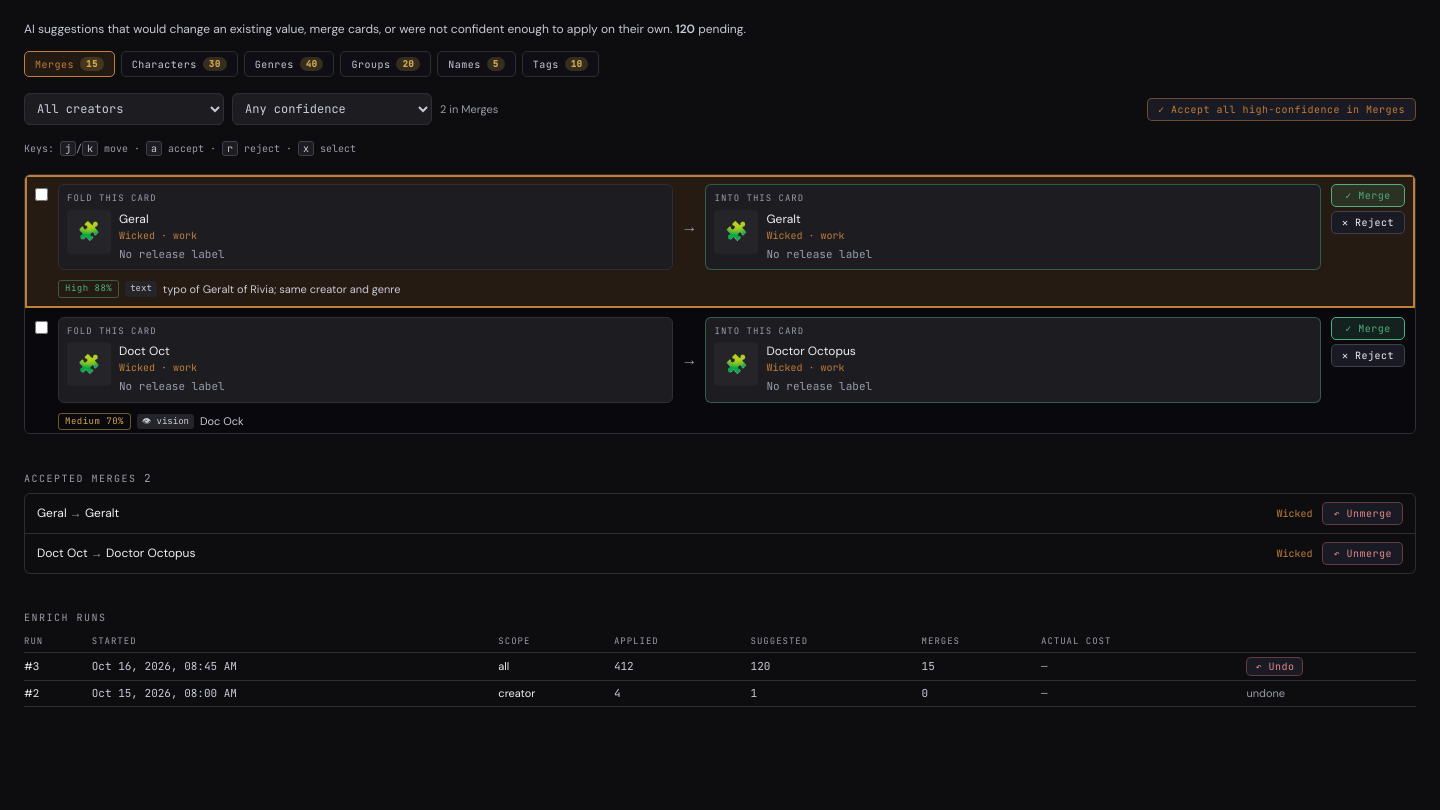
Test: Review tab › pressing a on a merge row asks first; a bulk accept with merges says cards will fold
Press a in the list item with aria-label "Same character: Geral", box 25,175 -> 1415,308
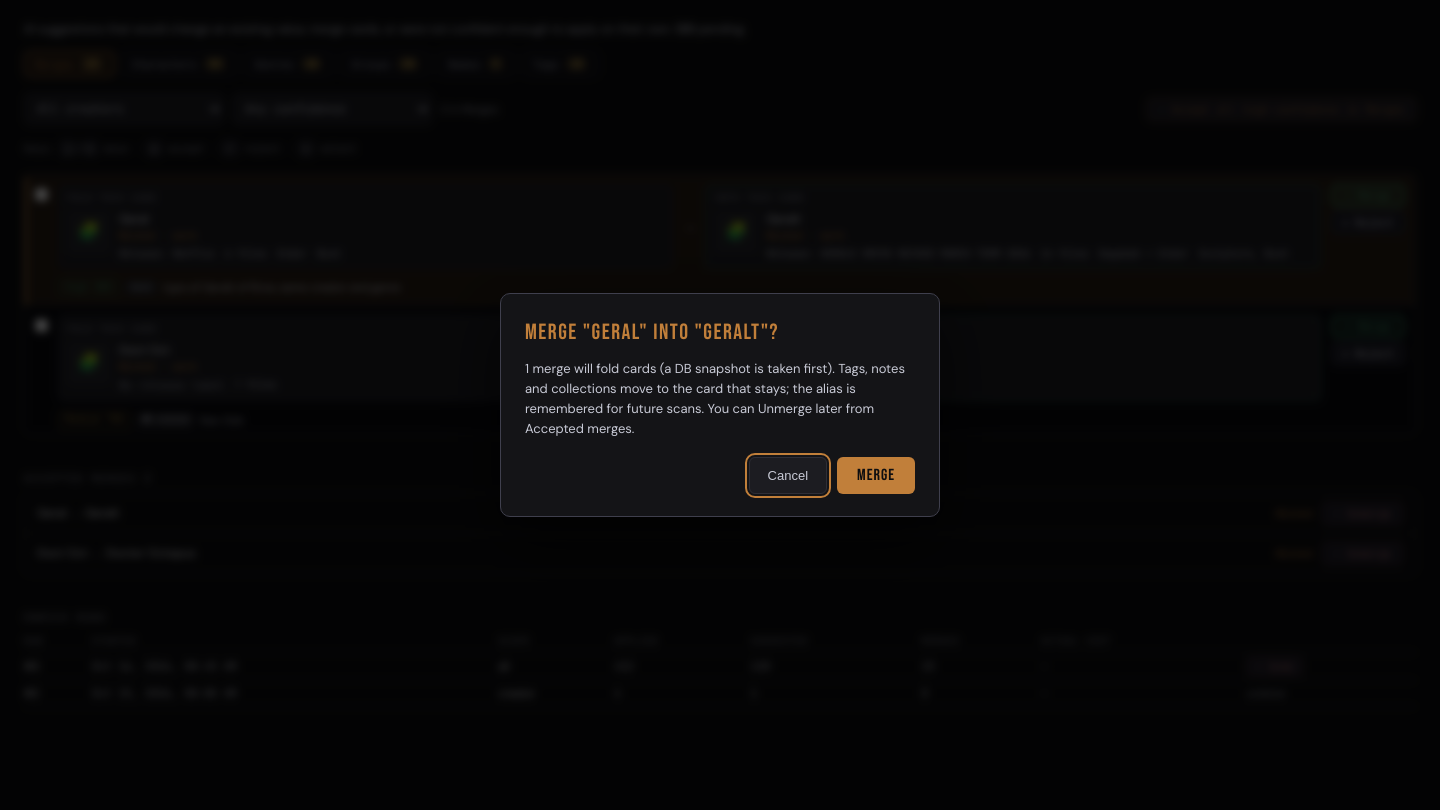
Click the button "Cancel": {"x": 788, "y": 476} 749,457 -> 827,494
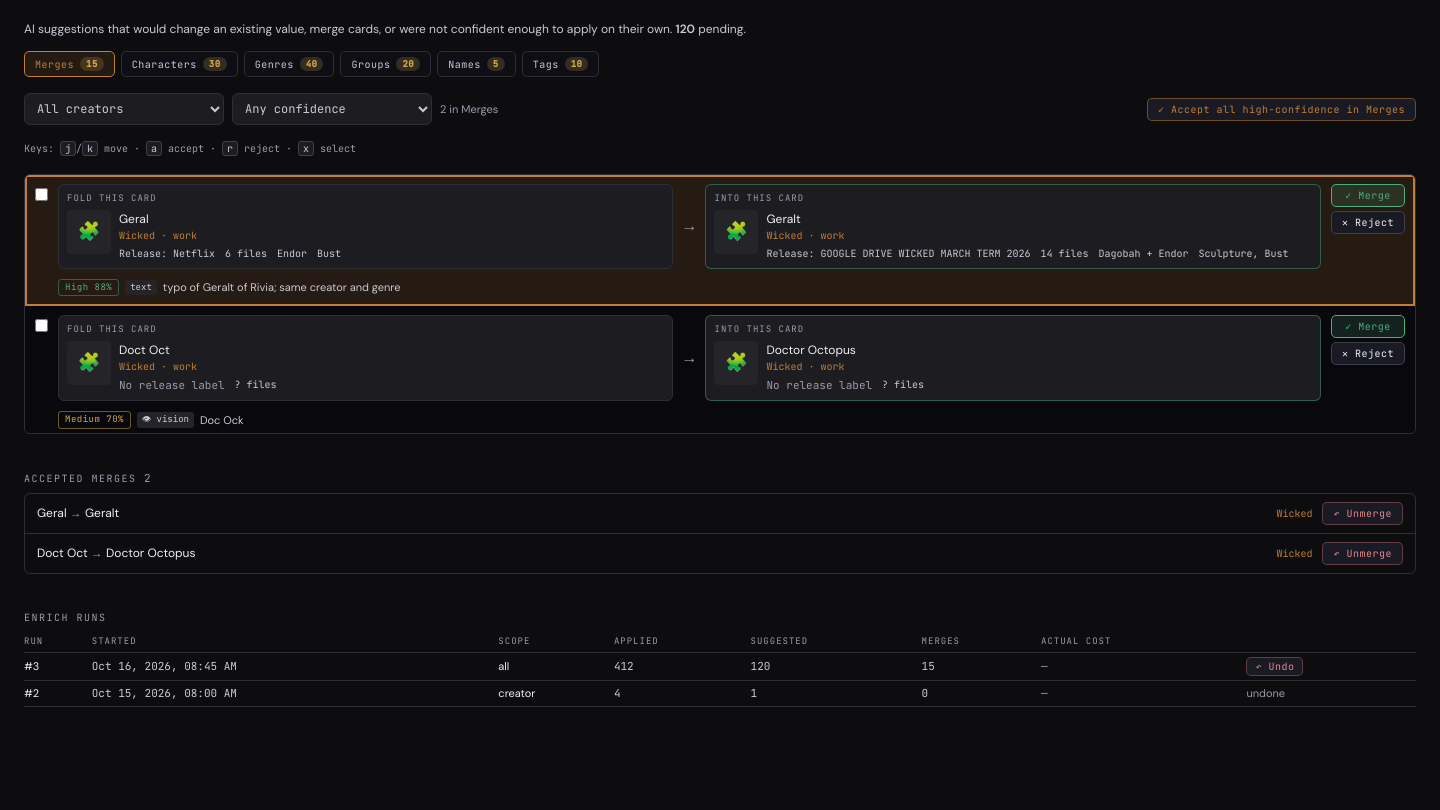
Now the dialog is gone
Click the checkbox named "Select suggestion for Geral": {"x": 42, "y": 195} 35,188 -> 48,201
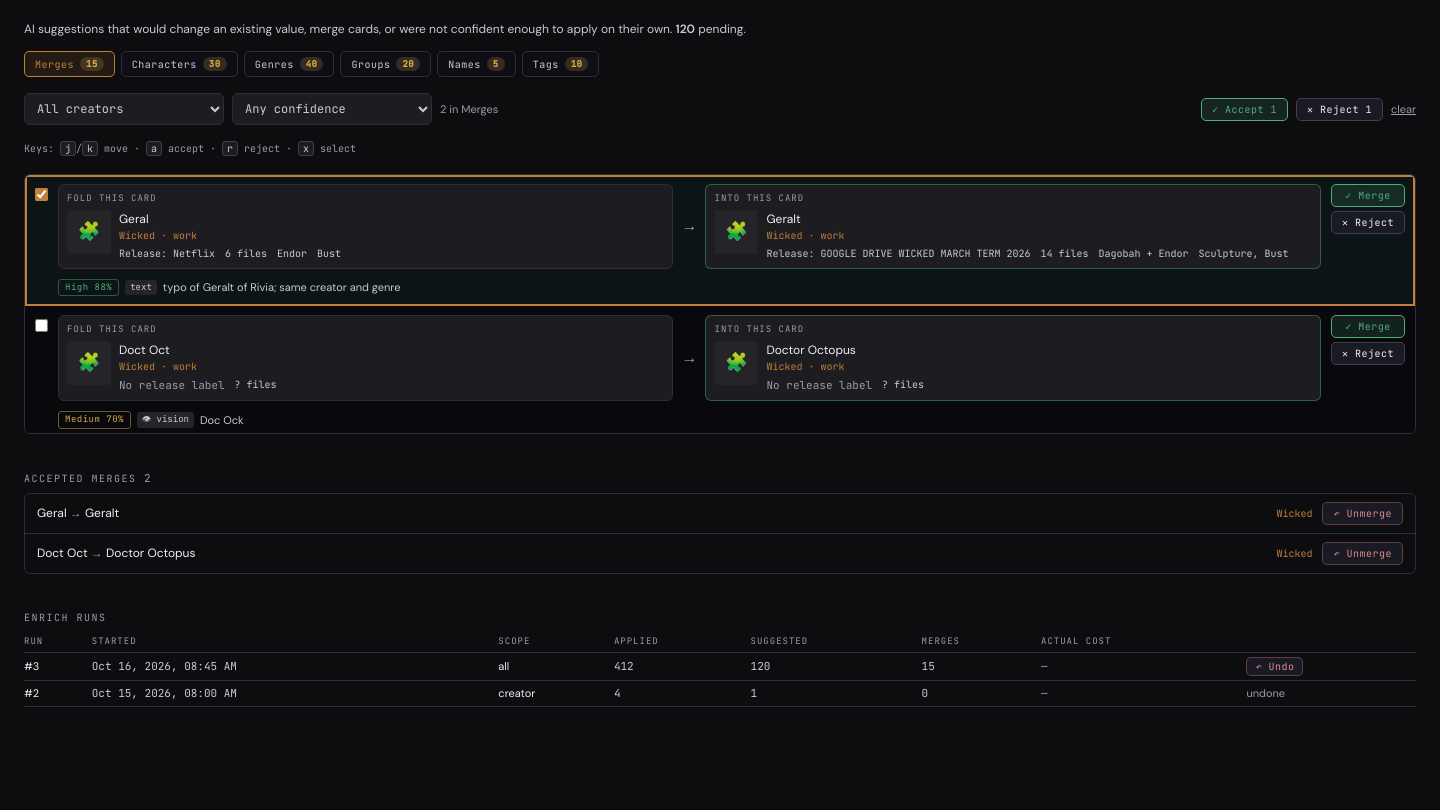
Click the checkbox named "Select suggestion for Doct Oct": {"x": 42, "y": 326} 35,319 -> 48,332
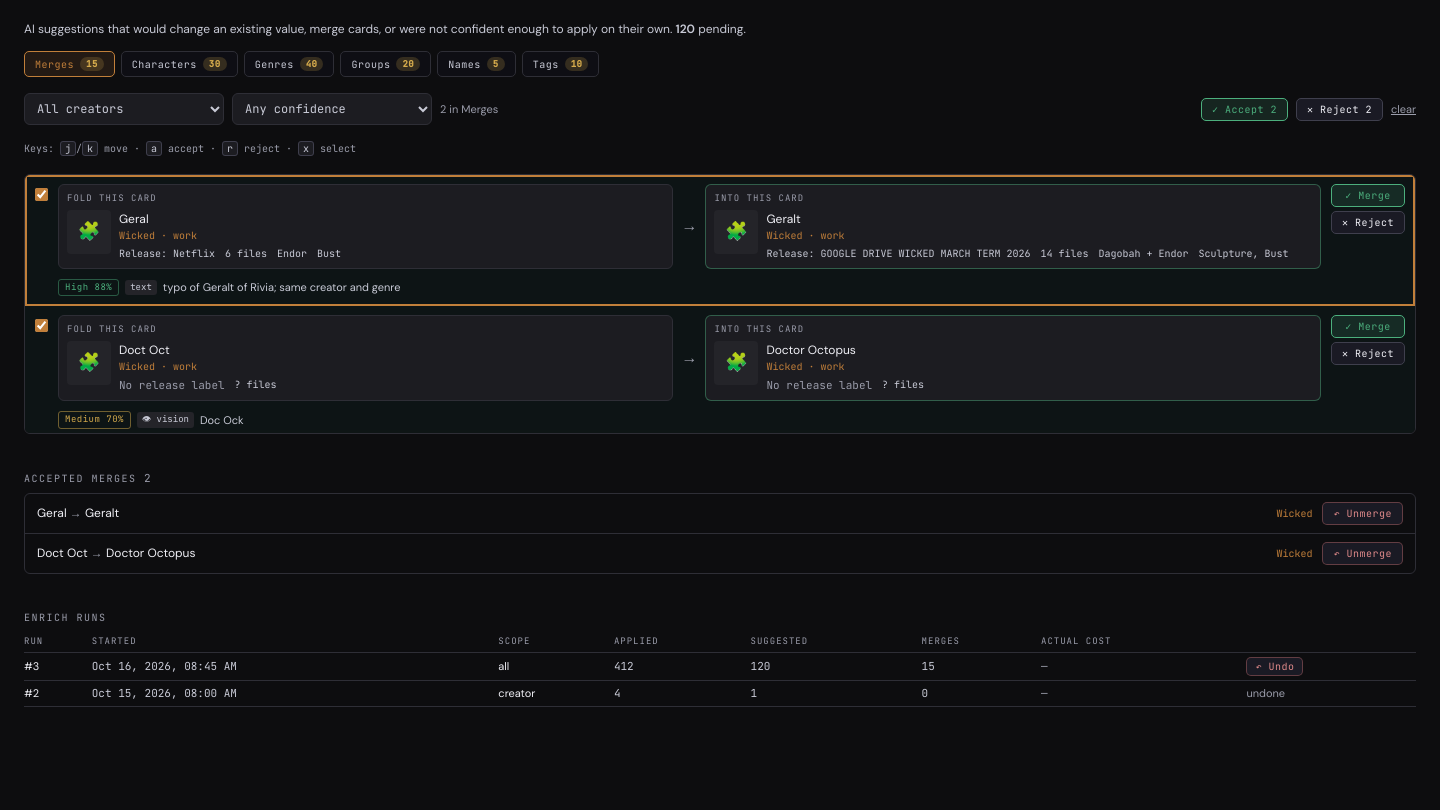
Click the button "✓ Accept 2": {"x": 1244, "y": 109} 1201,98 -> 1288,121
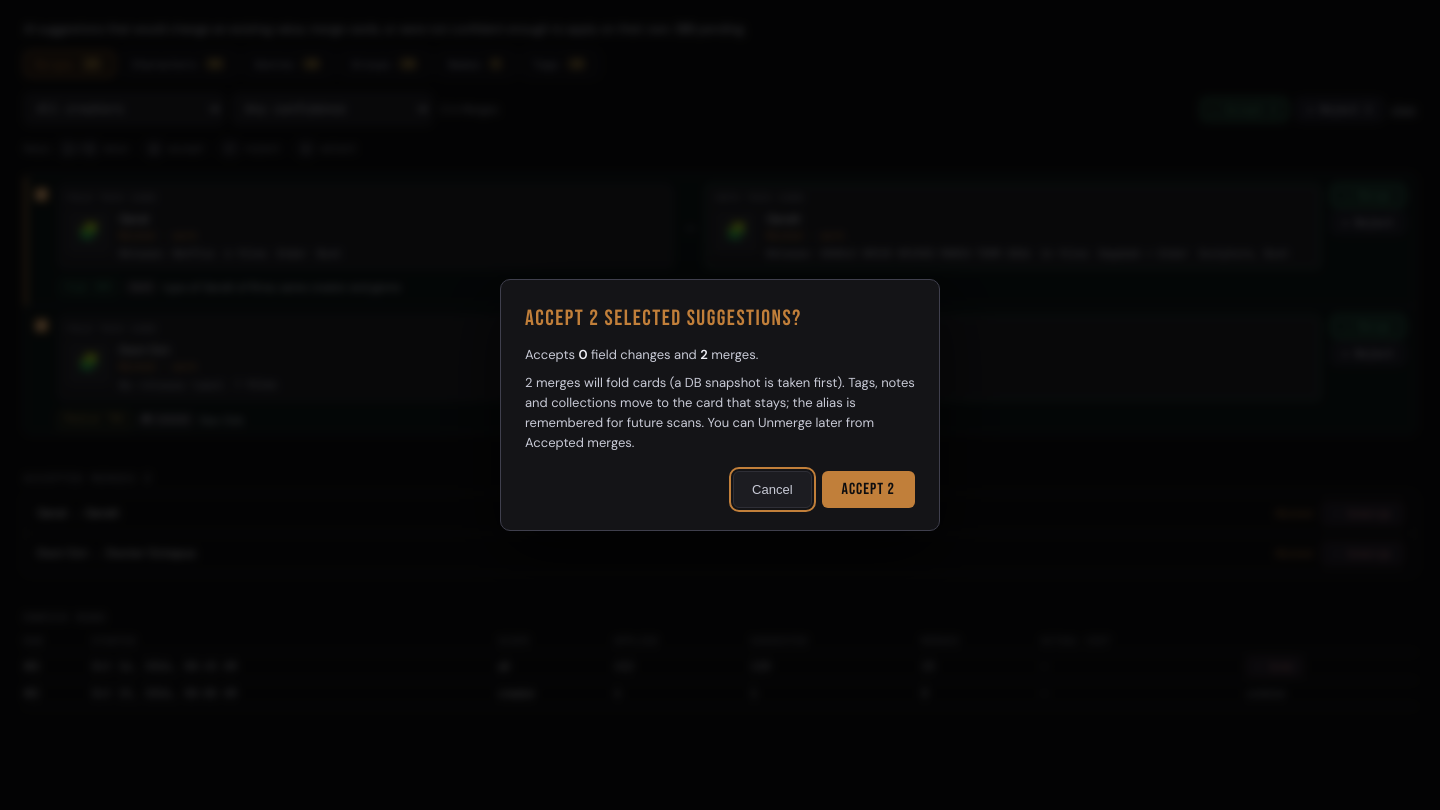
Now the dialog "Accept 2 selected suggestions?" shows "2 merges will fold cards (a DB snapshot is taken first)", box 500,279 -> 940,531
